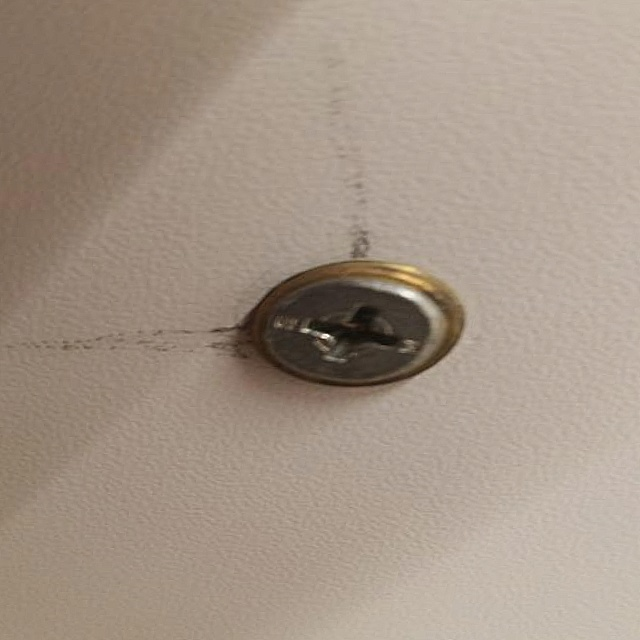phillips: (255, 274, 459, 388)
